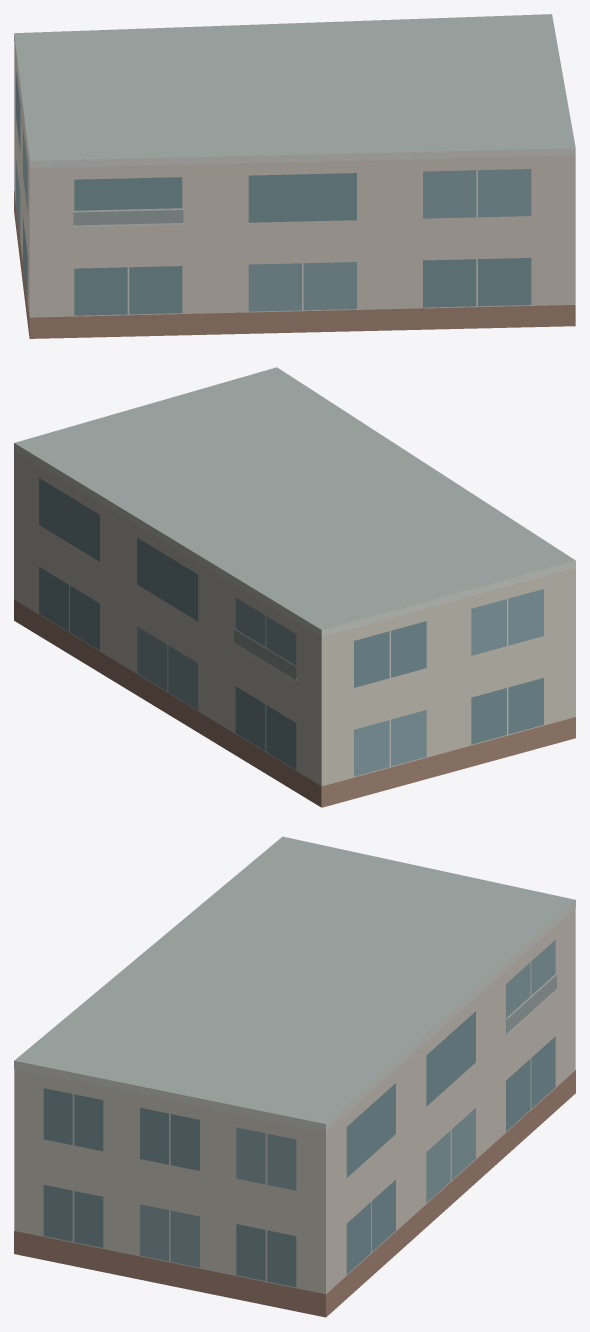
The model's file is survey-upis-32844500.glb.
The picture shows the model from 3 angles, top to bottom: view 1: azimuth 30°, elevation 25°; view 2: azimuth 150°, elevation 25°; view 3: azimuth 270°, elevation 25°; orthographic projection. The views are drawn at different scales.
Parts seen in each view (by area): view 1: survey-upis-32844500.tmp; view 2: survey-upis-32844500.tmp; view 3: survey-upis-32844500.tmp.
Boxes of the visible parts, x1=… form: survey-upis-32844500.tmp: x1=14, y1=14, x2=575, y2=338; survey-upis-32844500.tmp: x1=14, y1=367, x2=575, y2=807; survey-upis-32844500.tmp: x1=14, y1=836, x2=575, y2=1317.
Bounding box in the file's own units: 19.16 × 6 × 15.81.
